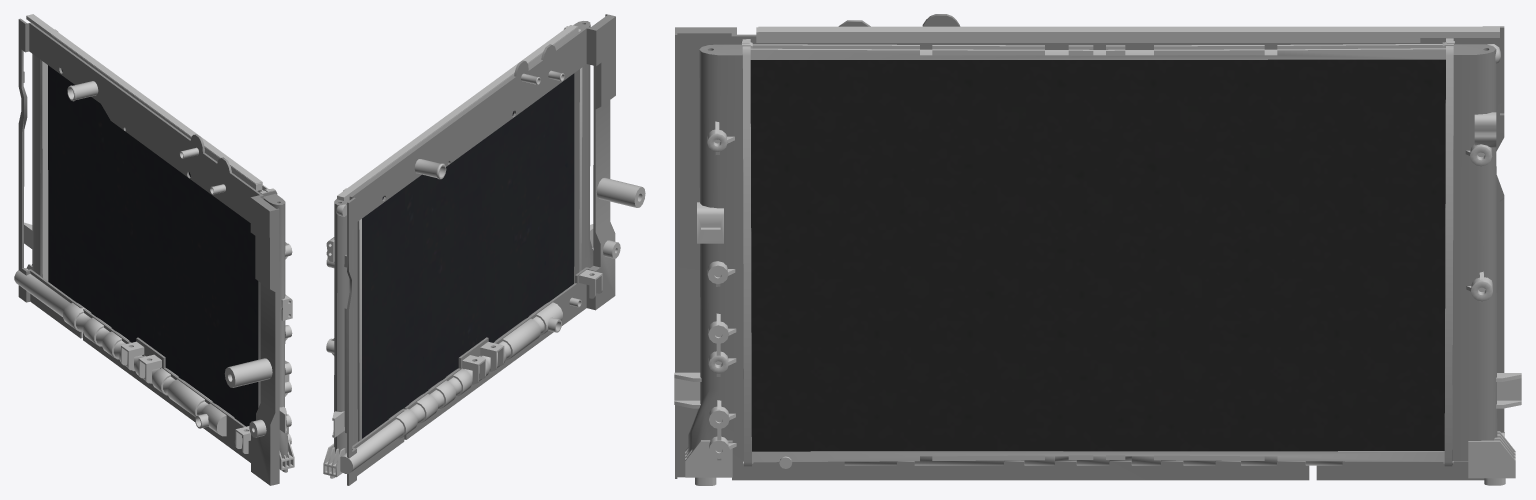
File: E5_散热器.FBX
3 renders of one model, left to right at view 1: azimuth 30°, elevation 25°; view 2: azimuth 150°, elevation 25°; view 3: azimuth 270°, elevation 25°, orthographic. The views are drawn at different scales.
Parts seen in each view (by area): view 1: SRQZC 1; view 2: SRQZC 1; view 3: SRQZC 1.
Boxes of the visible parts, left/top/right/bottom form: SRQZC 1: left=14, top=14, right=294, bottom=485; SRQZC 1: left=323, top=14, right=645, bottom=485; SRQZC 1: left=674, top=14, right=1521, bottom=485.
Size of the model in its own units: 11.14 by 47.6 by 78.67.
